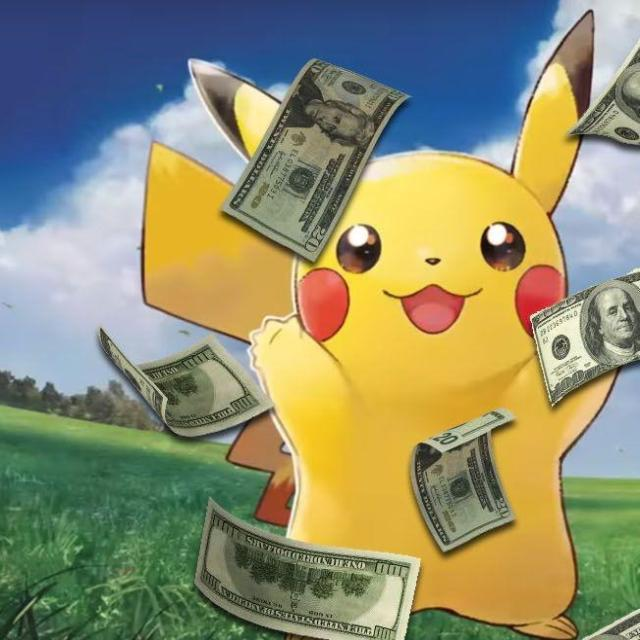pikachu: (138, 9, 620, 640)
